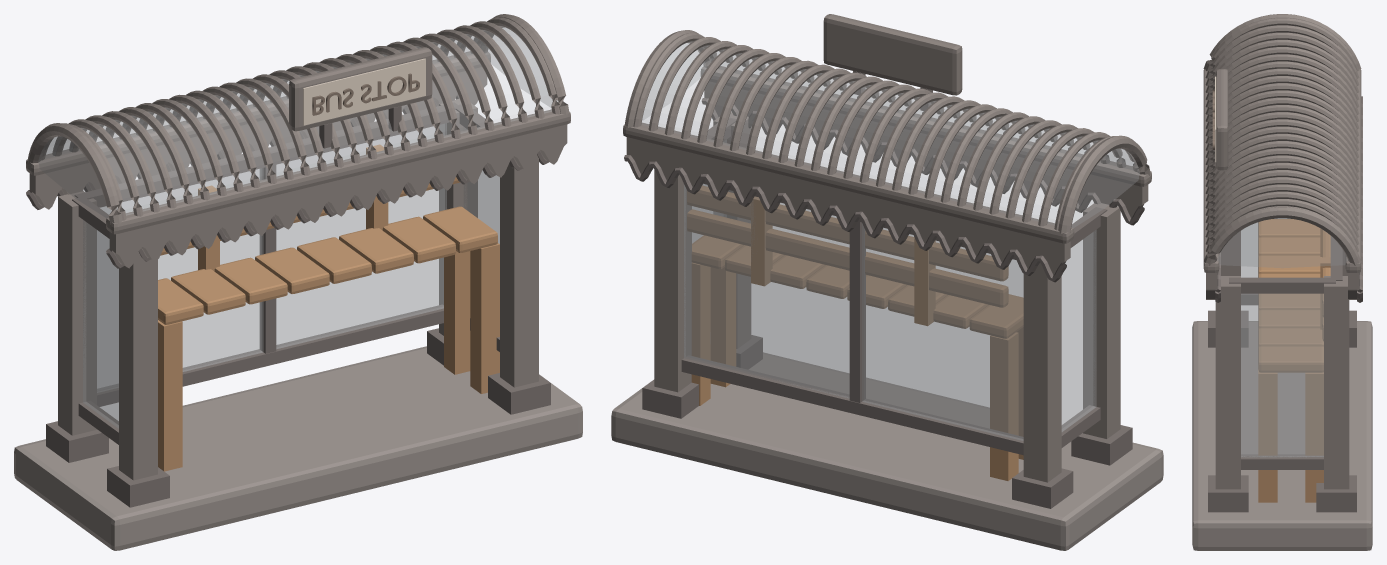
File: 34-bus-stop-shelter-bs3.glb
The picture shows the model from 3 angles, left to right: view 1: azimuth 30°, elevation 25°; view 2: azimuth 150°, elevation 25°; view 3: azimuth 270°, elevation 25°; orthographic projection. The views are drawn at different scales.
Parts seen in each view (by area): view 1: Plinth, BackGlass, VaultSkin, Valance_Front, Post_+1-1, Post_-1+1, Post_-1-1, EaveRail_Front, SideGlass_L, Valance_Back, BackBotRail, BenchLeg_1 (+48 smaller); view 2: BackGlass, Plinth, VaultSkin, Valance_Back, Post_-1-1, Post_-1+1, Post_+1+1, SignBoard, EaveRail_Back, BackSlat_0, BackBotRail, SideGlass_L (+56 smaller); view 3: Plinth, SideGlass_R, Post_+1+1, Post_+1-1, EndGlass_EndR, BenchLeg_1, EndFrame_EndR, BenchLeg_3, SeatSlat_7, SideTopRail_R, SignBoard, SideBotRail_R (+47 smaller).
Boxes of the visible parts, <box> form: Plinth: <box>14,346,582,550</box>; BackGlass: <box>97,123,446,392</box>; VaultSkin: <box>45,26,557,215</box>; Valance_Front: <box>109,124,567,268</box>; Post_+1-1: <box>500,154,538,387</box>; Post_-1+1: <box>58,191,96,435</box>; Post_-1-1: <box>119,249,157,480</box>; EaveRail_Front: <box>106,109,570,234</box>; SideGlass_L: <box>83,220,118,428</box>; Valance_Back: <box>29,67,487,209</box>; BackBotRail: <box>97,304,443,406</box>; BenchLeg_1: <box>470,243,499,393</box>; BackGlass: <box>684,184,1023,440</box>; Plinth: <box>611,352,1163,550</box>; VaultSkin: <box>641,41,1140,225</box>; Valance_Back: <box>626,137,1070,274</box>; Post_-1-1: <box>1083,203,1120,438</box>; Post_-1+1: <box>1023,263,1061,482</box>; Post_+1+1: <box>654,170,691,392</box>; SignBoard: <box>823,14,962,95</box>; EaveRail_Back: <box>623,122,1074,243</box>; BackSlat_0: <box>687,209,1008,307</box>; BackBotRail: <box>681,355,1023,455</box>; SideGlass_L: <box>1061,230,1096,431</box>; Plinth: <box>1192,321,1372,550</box>; SideGlass_R: <box>1241,293,1323,457</box>; Post_+1+1: <box>1324,276,1349,489</box>; Post_+1-1: <box>1215,276,1240,489</box>; EndGlass_EndR: <box>1217,218,1347,267</box>; BenchLeg_1: <box>1258,371,1277,502</box>; EndFrame_EndR: <box>1203,207,1361,265</box>; BenchLeg_3: <box>1305,372,1323,502</box>; SeatSlat_7: <box>1258,346,1323,372</box>; SideTopRail_R: <box>1229,277,1335,293</box>; SignBoard: <box>1216,69,1228,170</box>; SideBotRail_R: <box>1241,454,1323,469</box>.
Bounding box in the file's own units: 4 × 3.35 × 1.5.
